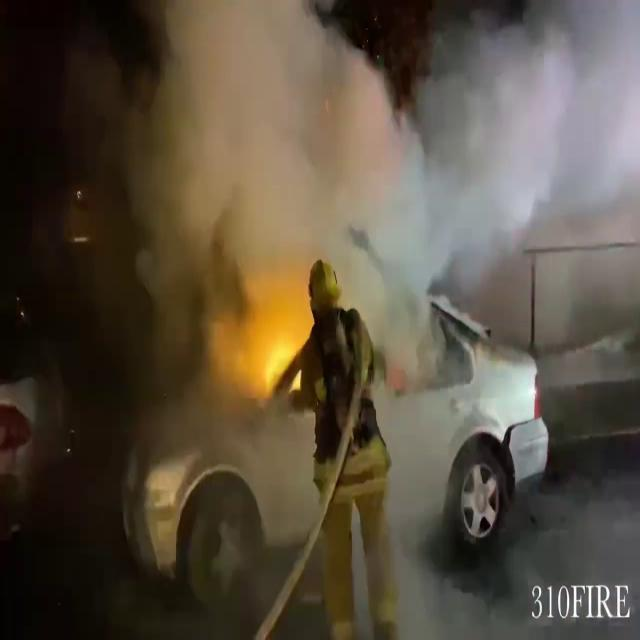Smoke: (90, 0, 498, 416)
